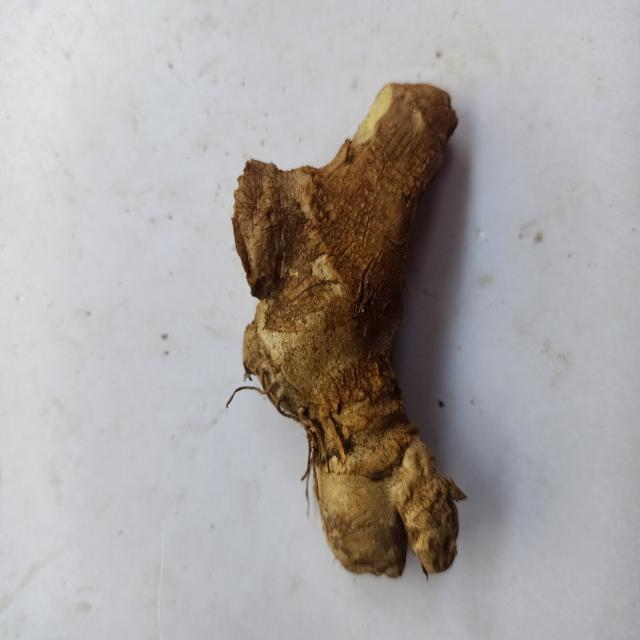Ginger: (232, 83, 465, 577)
